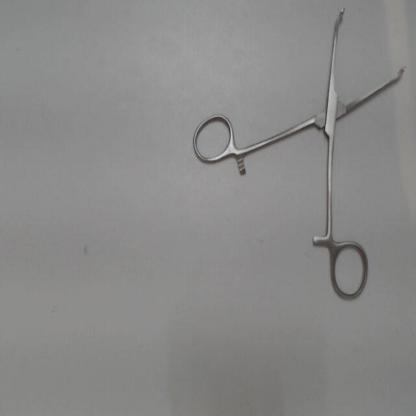Allis Tissue Forceps: (184, 2, 414, 309)
